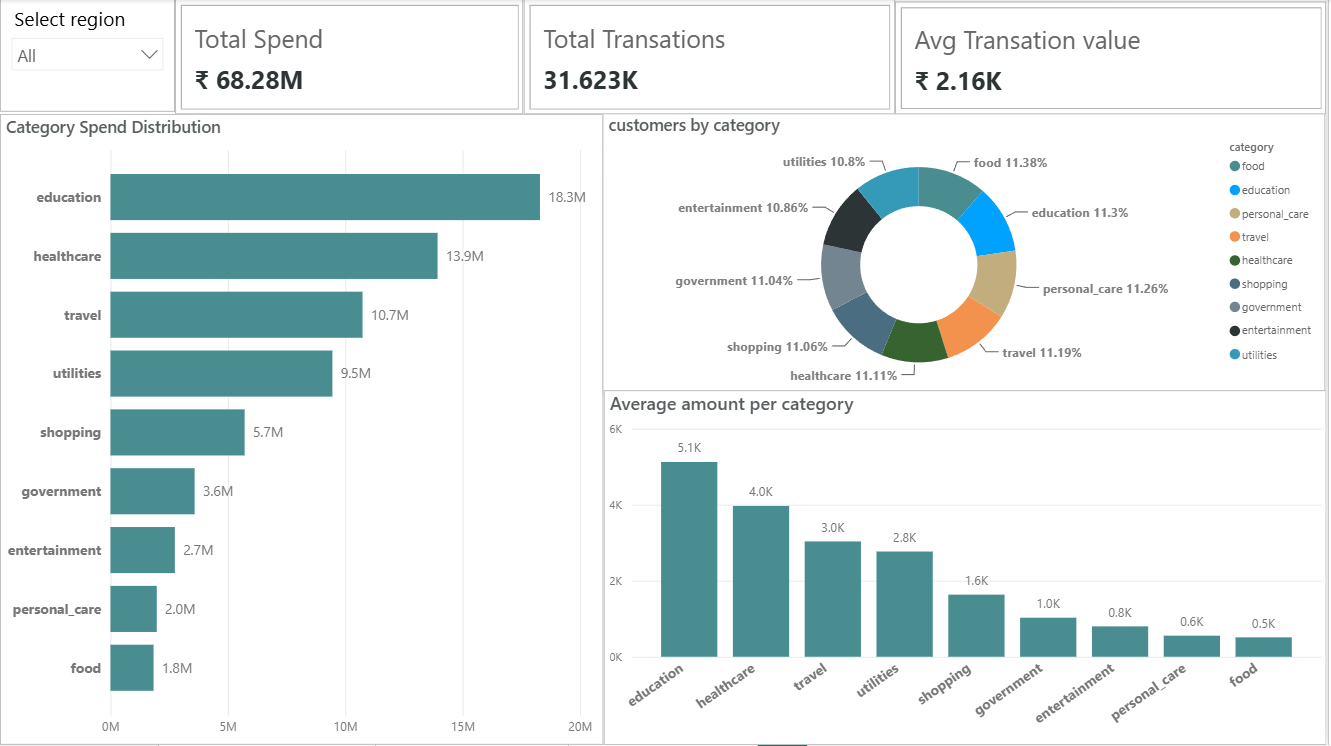

Layout of this report page (visuals, bound fields, positions):
{"tool":"powerbi","page":{"name":"Region wise information","canvas":[1280,720],"ordinal":0},"visuals":[{"type":"clusteredBarChart","title":"Category Spend Distribution","fields":{"Category":["Transations.category"],"Y":["Sum(Transations.amount)"]},"box":[0,111.2,582.5,608.8],"z":0},{"type":"donutChart","title":"customers by category","fields":{"Category":["Transations.category"],"Y":["CountNonNull(Transations.customer_id)"]},"box":[581,108.6,697.3,273],"z":1000},{"type":"clusteredColumnChart","title":"Average amount per category","fields":{"Category":["Transations.category"],"Y":["Avg(Transations.amount)"]},"box":[582.7,377.6,697.3,342.6],"z":2000},{"type":"cardVisual","fields":{"Data":["Sum(Transations.amount)"]},"box":[168.8,0,336.2,111.2],"z":3000},{"type":"cardVisual","fields":{"Data":["CountNonNull(Transations.customer_id)"]},"box":[505,0,358.8,111.2],"z":4000},{"type":"cardVisual","fields":{"Data":["Avg(Transations.amount)"]},"box":[863.8,2.5,416.2,108.8],"z":5000},{"type":"slicer","fields":{"Values":["Transations.region"]},"box":[0,0,168.8,108.8],"z":6000}]}

Visuals, with their boxes in screenshot pixels (x1, y1, x2, y2), scaled from the page's 1280x720 canvas onto the 1331x746 screenshot:
"Category Spend Distribution" clusteredBarChart: locate(0, 115, 606, 745)
"customers by category" donutChart: locate(604, 113, 1329, 395)
"Average amount per category" clusteredColumnChart: locate(606, 391, 1330, 745)
cardVisual - Sum(Transations.amount): locate(176, 0, 525, 115)
cardVisual - CountNonNull(Transations.customer_id): locate(525, 0, 898, 115)
cardVisual - Avg(Transations.amount): locate(898, 3, 1330, 115)
slicer - Transations.region: locate(0, 0, 176, 113)
